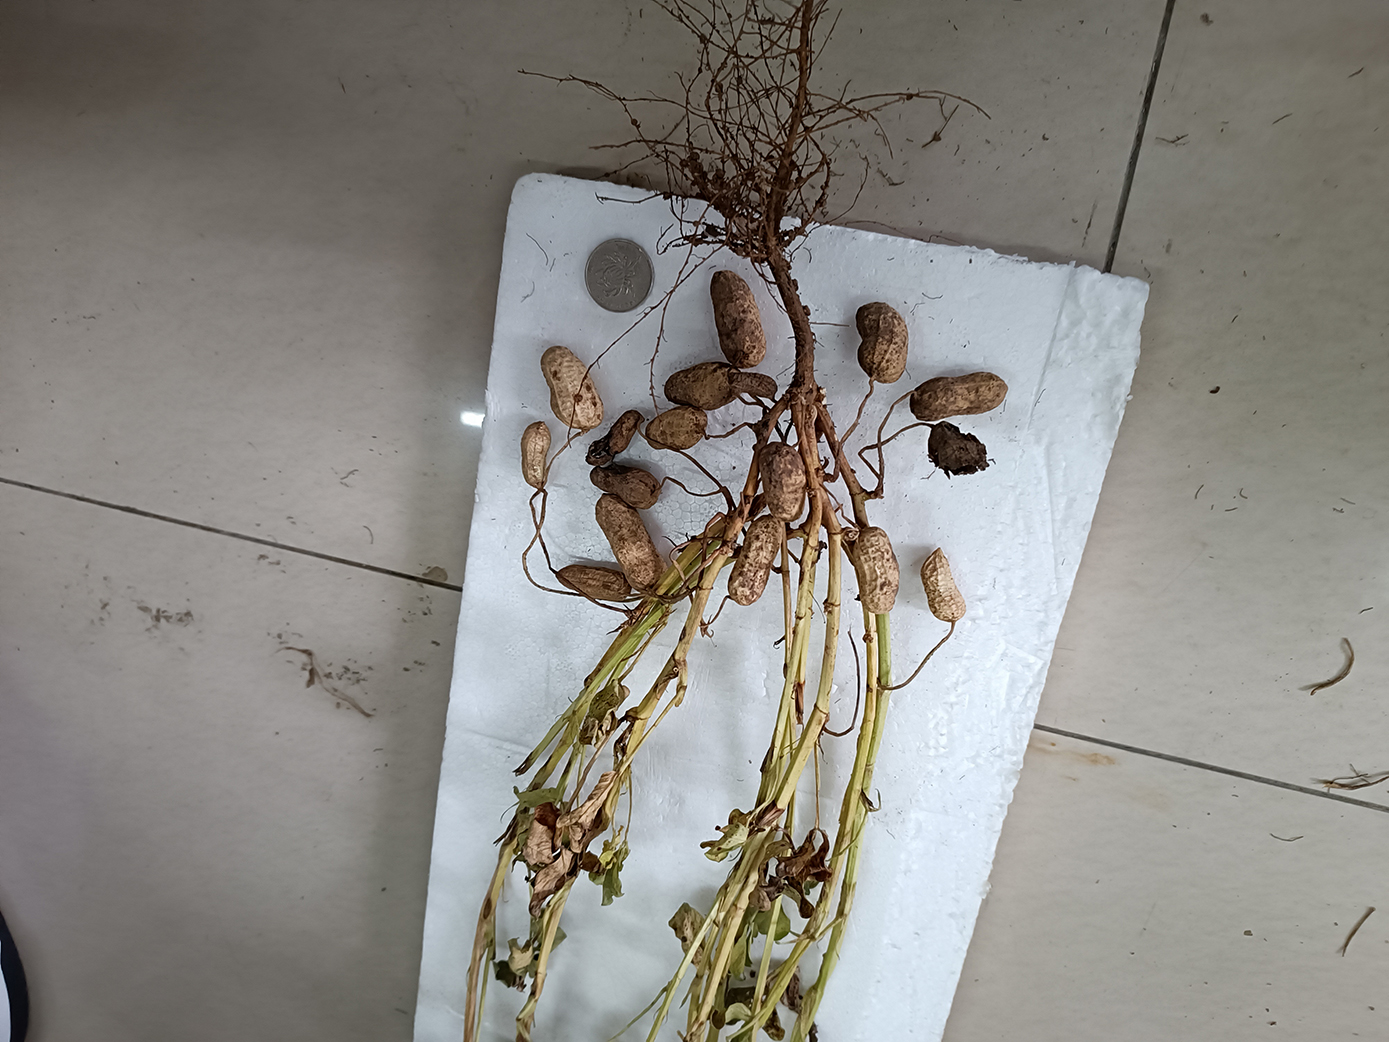h: (595, 493, 660, 591), (539, 345, 603, 430), (850, 526, 901, 616), (855, 302, 908, 385), (759, 441, 805, 523), (921, 546, 966, 622), (645, 406, 706, 450), (520, 420, 552, 490)
l: (710, 270, 766, 369), (726, 514, 783, 607), (908, 370, 1008, 420), (664, 361, 740, 410), (928, 421, 991, 479), (584, 408, 643, 466), (589, 465, 660, 510), (556, 564, 628, 602), (732, 371, 777, 398)
